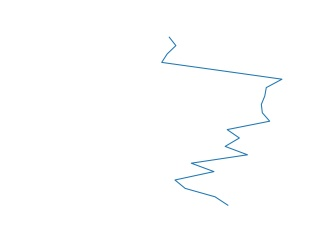floodPlain: (160, 36, 284, 209)
